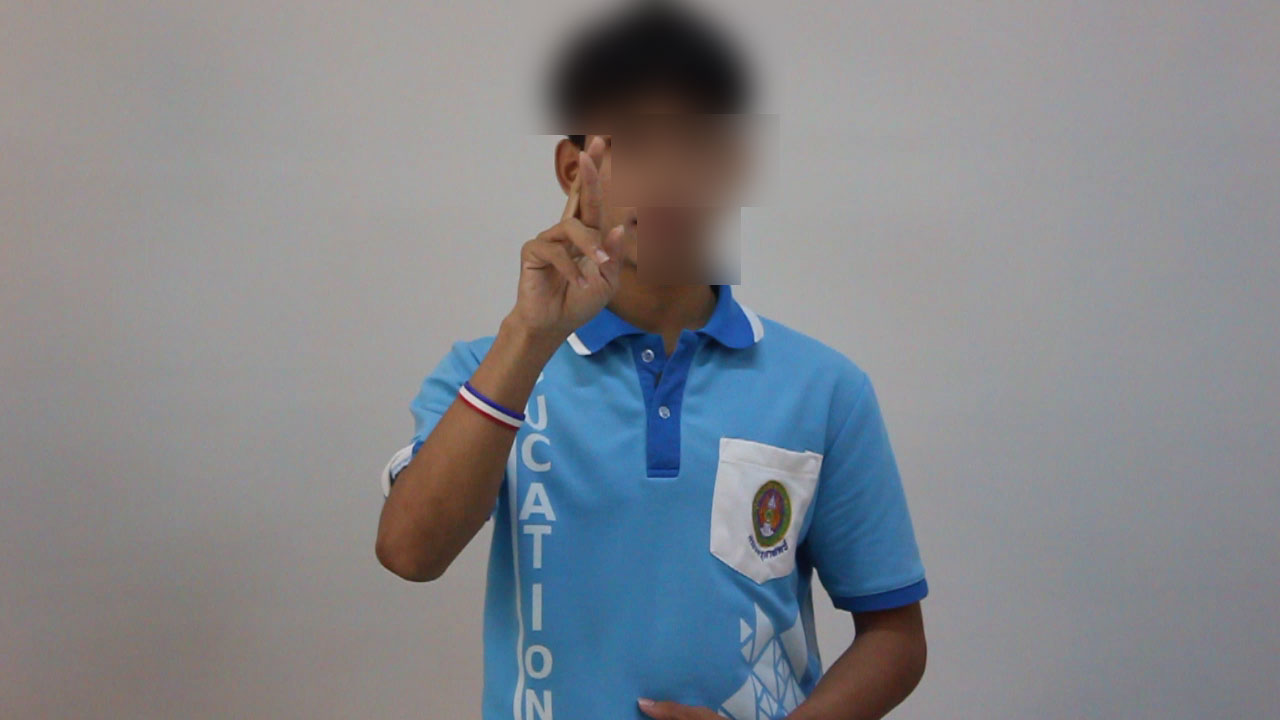rao: (483, 130, 631, 334)
